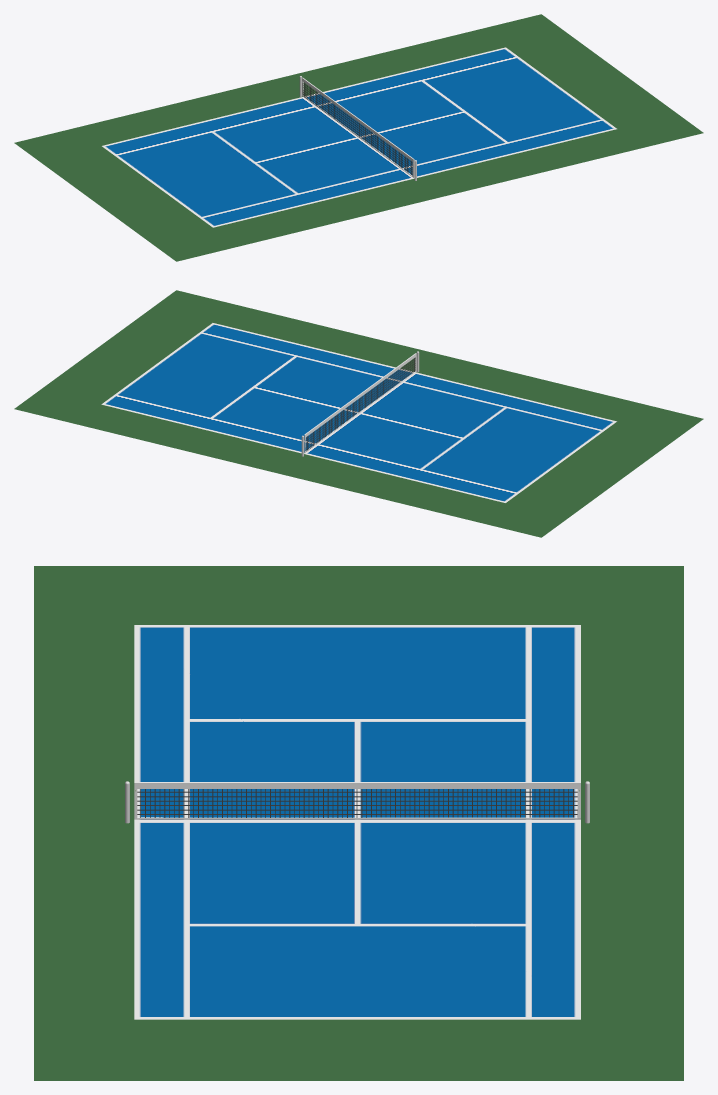
The model's file is canchaAzul11 (1).fbx.
3 views of the same model, one above another, from view 1: azimuth 30°, elevation 25°; view 2: azimuth 150°, elevation 25°; view 3: azimuth 270°, elevation 25° (orthographic). The views are drawn at different scales.
Parts seen in each view (by area): view 1: cancha, superficie_total, red_total; view 2: cancha, superficie_total, red_total; view 3: cancha, superficie_total, red_total.
Part boxes in pixels (left/top/right/bottom): cancha: left=102, top=47, right=616, bottom=227; superficie_total: left=14, top=14, right=703, bottom=261; red_total: left=302, top=77, right=414, bottom=177; cancha: left=101, top=323, right=616, bottom=502; superficie_total: left=14, top=290, right=703, bottom=537; red_total: left=304, top=353, right=416, bottom=453; cancha: left=134, top=625, right=580, bottom=1019; superficie_total: left=34, top=566, right=683, bottom=1080; red_total: left=134, top=782, right=580, bottom=819.
Size of the model in its own units: 6000 by 232 by 3200.
Materials: 4 (2 with a texture image).
